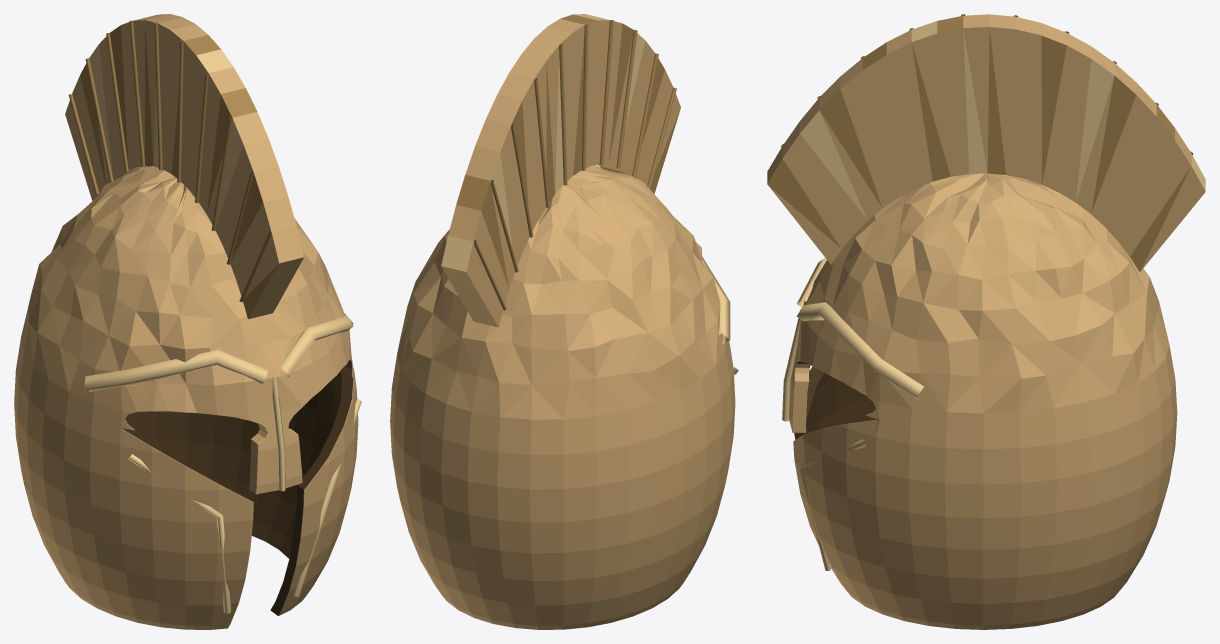
File: visor.glb
The picture shows the model from 3 angles, left to right: view 1: azimuth 30°, elevation 25°; view 2: azimuth 150°, elevation 25°; view 3: azimuth 270°, elevation 25°; orthographic projection. The views are drawn at different scales.
Visible parts, largest first — view 1: Hollow helmet shell.007, Radial fan crest.006, Sculpted brow.014, Sculpted brow.015, Cheek ridge.014, Nasal spine.007, Cheek ridge.015, Crest vane.065, Crest vane.066, Crest vane.064, Crest vane.067, Crest vane.063 (+2 smaller); view 2: Hollow helmet shell.007, Radial fan crest.006, Sculpted brow.014, Crest vane.063, Crest vane.064, Crest vane.062, Crest vane.065, Crest vane.066, Crest vane.061, Crest vane.067; view 3: Hollow helmet shell.007, Radial fan crest.006, Sculpted brow.015, Nasal spine.007, Cheek ridge.015.
Boxes of the visible parts, x1,y1,x2,y2 form: Hollow helmet shell.007: [14, 166, 358, 629]; Radial fan crest.006: [65, 14, 303, 319]; Sculpted brow.014: [84, 349, 267, 391]; Sculpted brow.015: [279, 313, 353, 377]; Cheek ridge.014: [128, 454, 231, 614]; Nasal spine.007: [272, 376, 285, 491]; Cheek ridge.015: [293, 399, 361, 596]; Crest vane.065: [154, 23, 162, 169]; Crest vane.066: [129, 20, 145, 166]; Crest vane.064: [177, 40, 183, 182]; Crest vane.067: [106, 33, 128, 171]; Crest vane.063: [195, 72, 208, 202]; Hollow helmet shell.007: [390, 165, 735, 629]; Radial fan crest.006: [441, 14, 680, 327]; Sculpted brow.014: [702, 256, 730, 344]; Crest vane.063: [599, 20, 613, 165]; Crest vane.064: [582, 24, 588, 170]; Crest vane.062: [616, 30, 637, 168]; Crest vane.065: [559, 44, 567, 185]; Crest vane.066: [534, 78, 549, 207]; Crest vane.061: [632, 53, 658, 177]; Crest vane.067: [510, 124, 533, 237]; Hollow helmet shell.007: [789, 173, 1177, 629]; Radial fan crest.006: [767, 14, 1205, 271]; Sculpted brow.015: [796, 302, 923, 399]; Nasal spine.007: [782, 309, 800, 421]; Cheek ridge.015: [799, 439, 866, 570].
Bounding box in the file's own units: 1.26 × 2.28 × 1.63.
